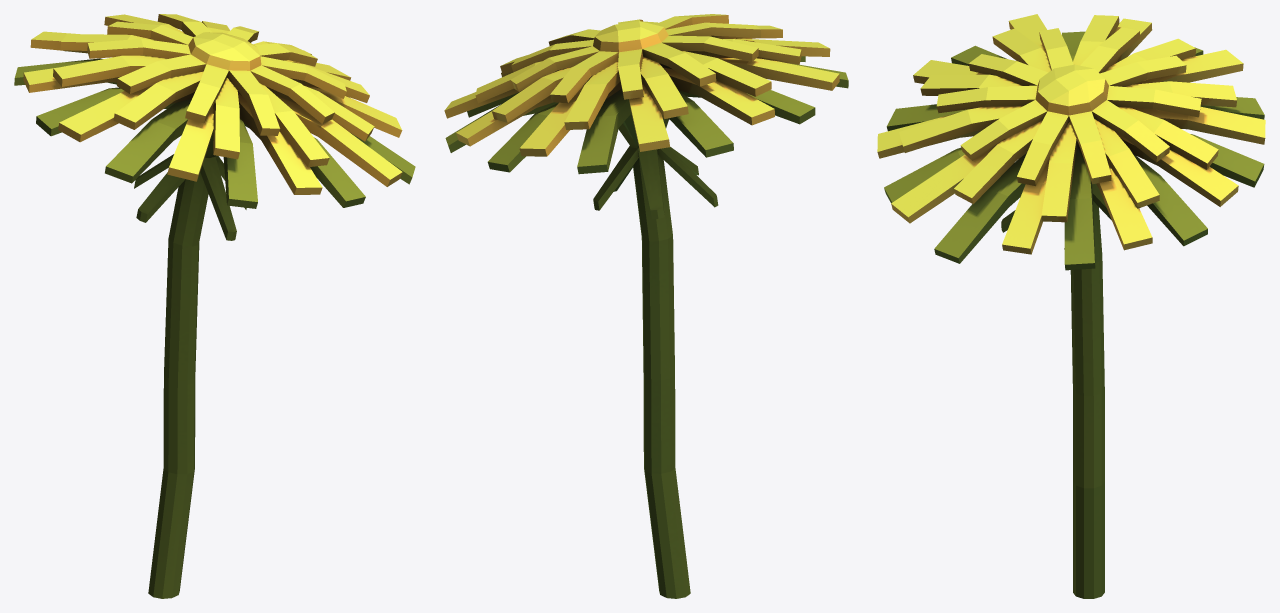
Rendered from PUSHILIN_Dandelion.obj.
3 views of the same model, side by side, from view 1: azimuth 30°, elevation 25°; view 2: azimuth 150°, elevation 25°; view 3: azimuth 270°, elevation 25° (orthographic).
Parts seen in each view (by area): view 1: Dandelion; view 2: Dandelion; view 3: Dandelion.
Part boxes in pixels (<box>): Dandelion: <box>14,14,415,598</box>; Dandelion: <box>444,14,848,598</box>; Dandelion: <box>877,14,1265,598</box>.
Bounding box in the file's own units: 1.26 × 1.96 × 1.27.
1 material, 1 textured.
